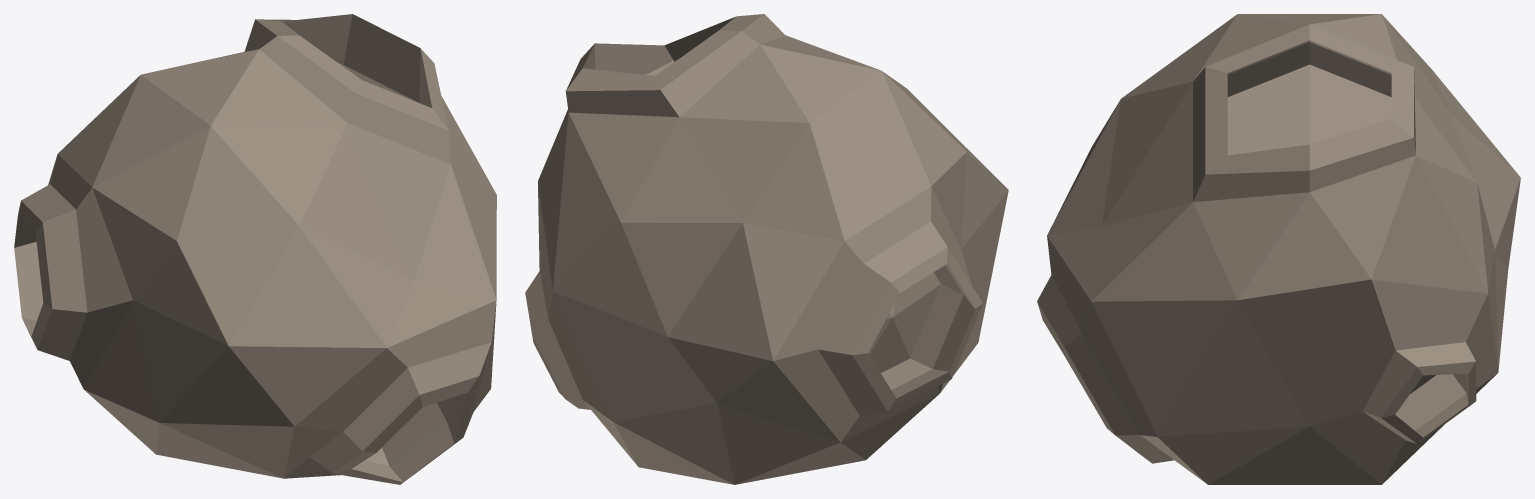
Rendered from asteroda.fbx.
3 views of the same model, side by side, from view 1: azimuth 30°, elevation 25°; view 2: azimuth 150°, elevation 25°; view 3: azimuth 270°, elevation 25° (orthographic). The views are drawn at different scales.
Visible parts, largest first — view 1: Icosphere.002; view 2: Icosphere.002; view 3: Icosphere.002.
Part boxes in pixels (x1=…): Icosphere.002: x1=14, y1=14, x2=496, y2=484; Icosphere.002: x1=525, y1=14, x2=1008, y2=484; Icosphere.002: x1=1037, y1=14, x2=1520, y2=484.
Bounding box in the file's own units: 212 × 202 × 207.
